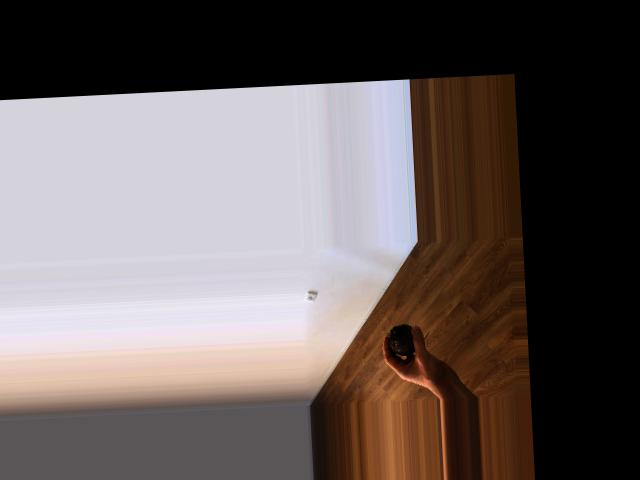beet: (386, 322, 429, 356)
